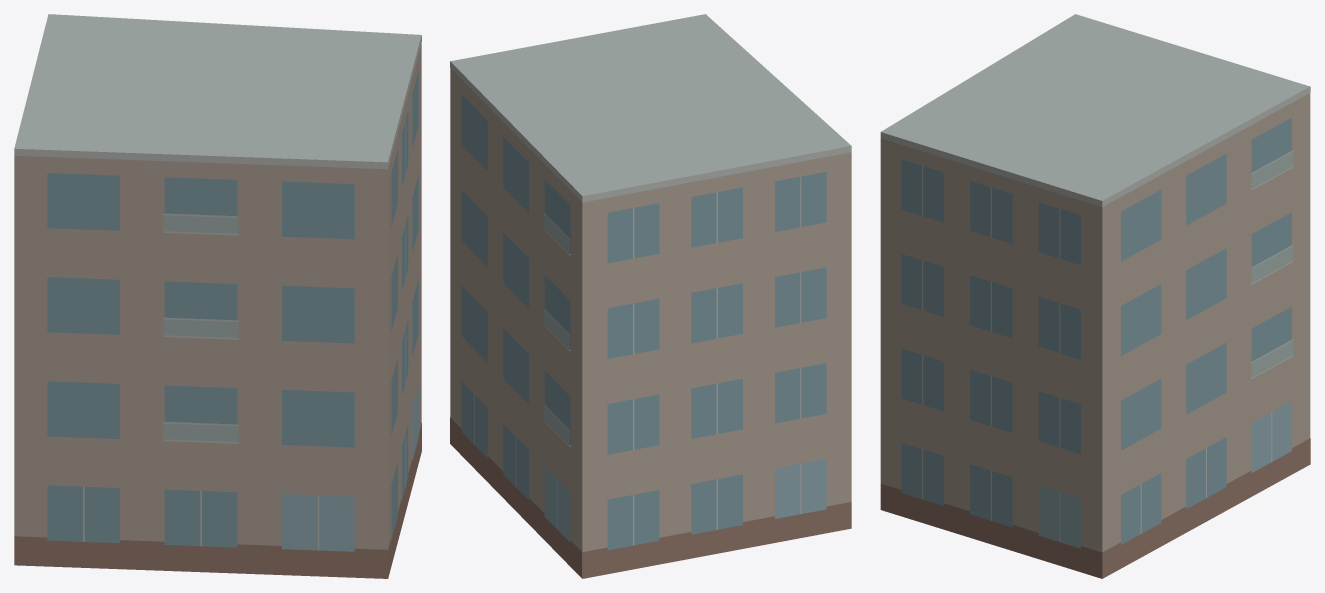
File: survey-upis-32856567.glb
3 renders of one model, left to right at view 1: azimuth 30°, elevation 25°; view 2: azimuth 150°, elevation 25°; view 3: azimuth 270°, elevation 25°, orthographic. The views are drawn at different scales.
Visible parts, largest first — view 1: survey-upis-32856567.tmp; view 2: survey-upis-32856567.tmp; view 3: survey-upis-32856567.tmp.
Part boxes in pixels (x1,y1,x2,y2): survey-upis-32856567.tmp: (14,14,421,578); survey-upis-32856567.tmp: (450,14,851,578); survey-upis-32856567.tmp: (880,14,1310,578).
Bounding box in the file's own units: 15.6 × 14.7 × 15.16.
